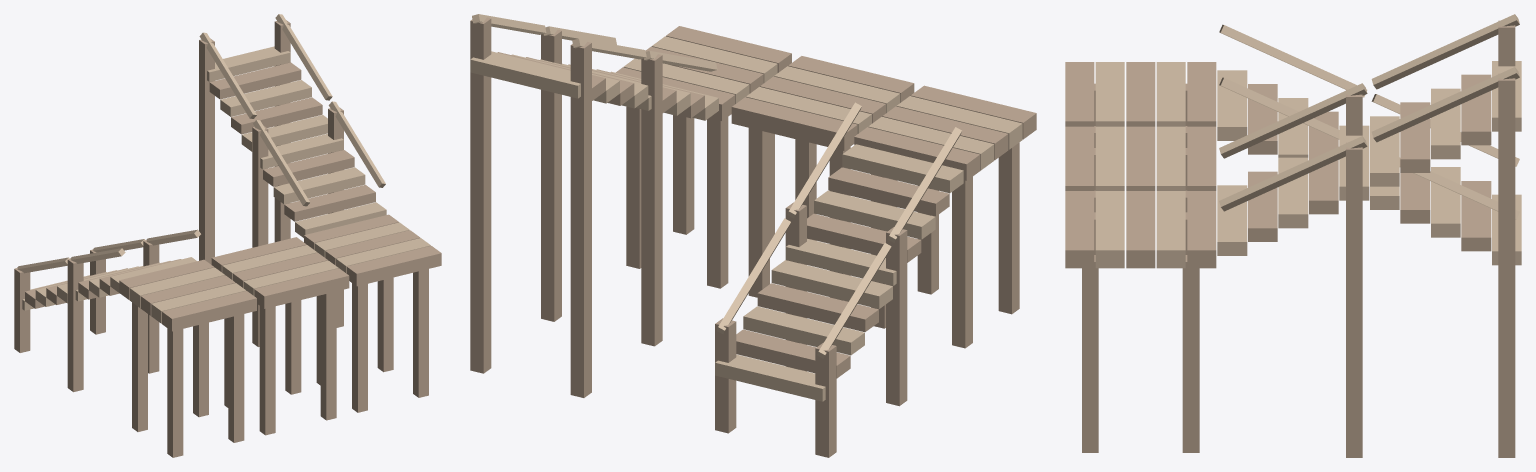
File: switchback.glb
3 views of the same model, side by side, from view 1: azimuth 30°, elevation 25°; view 2: azimuth 150°, elevation 25°; view 3: azimuth 270°, elevation 25° (orthographic). The views are drawn at different scales.
Parts seen in each view (by area): view 1: switchback_8C6B51, switchback_AA8865; view 2: switchback_8C6B51, switchback_AA8865; view 3: switchback_8C6B51, switchback_AA8865.
Part boxes in pixels (x1,y1,x2,y2): switchback_8C6B51: (14,20,441,457); switchback_AA8865: (17,14,430,323); switchback_8C6B51: (470,17,1036,457); switchback_AA8865: (470,14,1022,401); switchback_8C6B51: (1065,20,1515,457); switchback_AA8865: (1095,14,1521,268).
Bounding box in the file's own units: 2.93 × 2.8 × 2.99.
